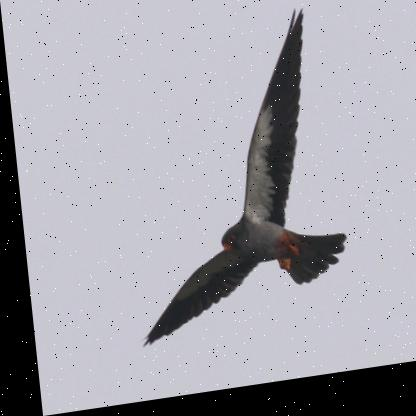Burung: (106, 13, 348, 358)
